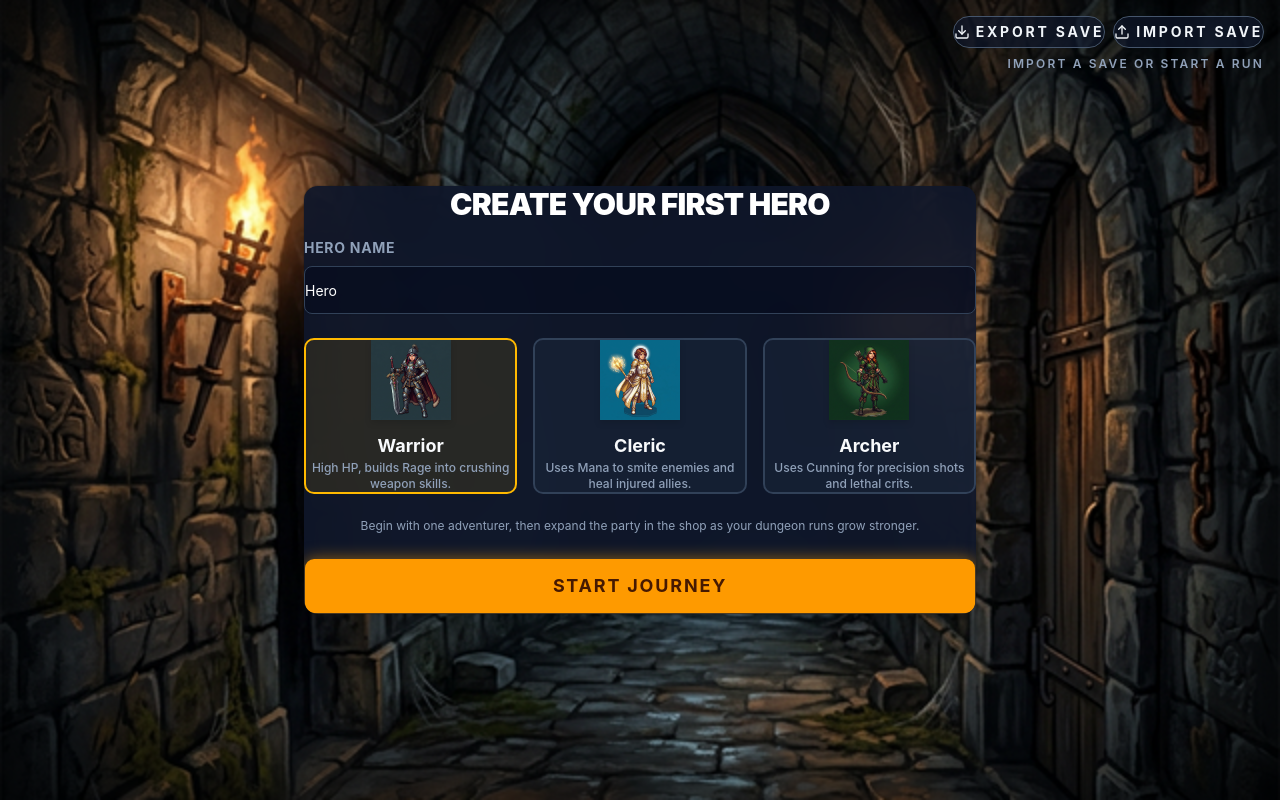
Test: App integration › creates a solo starter party and navigates to the upgrade shop
Replace the text in the field labelled "Hero Name" with "Ayla". click: (640, 290)
box: left=304, top=266, right=976, bottom=314
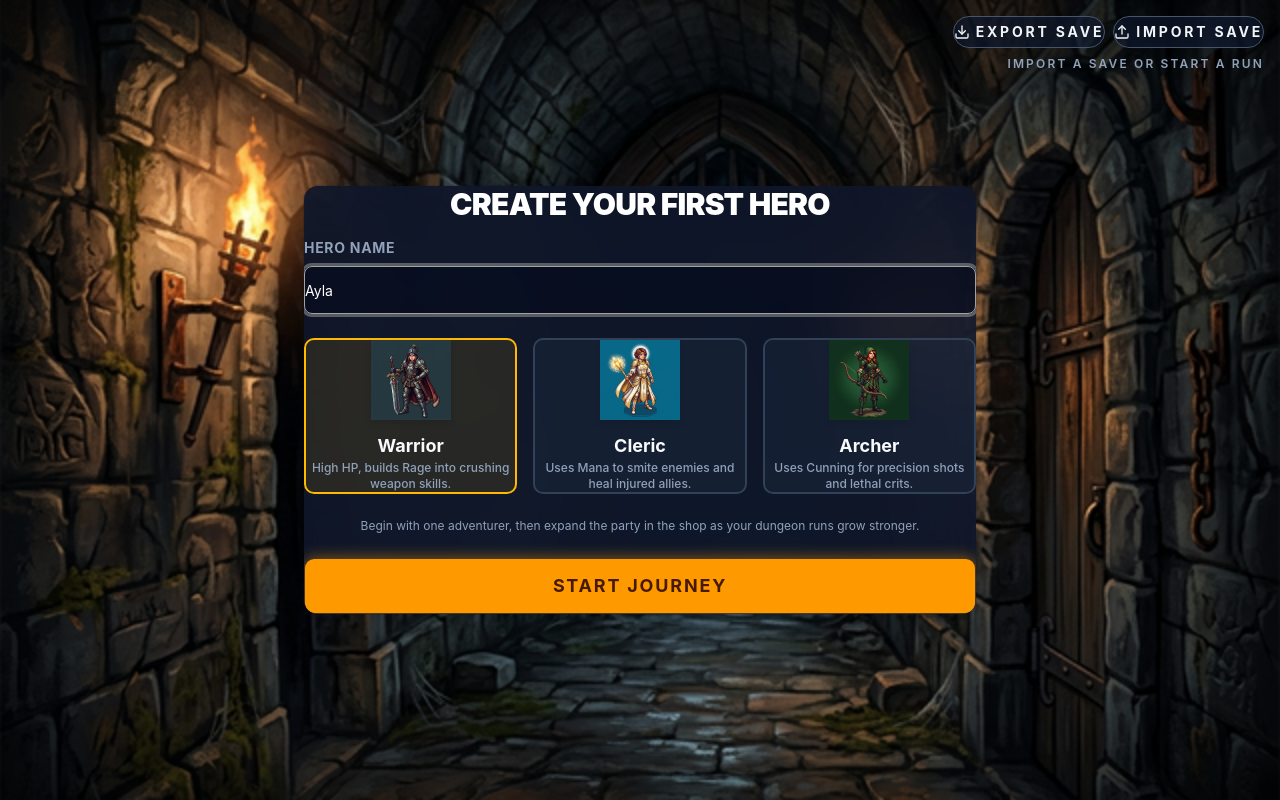
Click the button "Cleric Uses Mana to smite enemies and heal injured allies.". click: (640, 416)
box: left=533, top=338, right=747, bottom=494
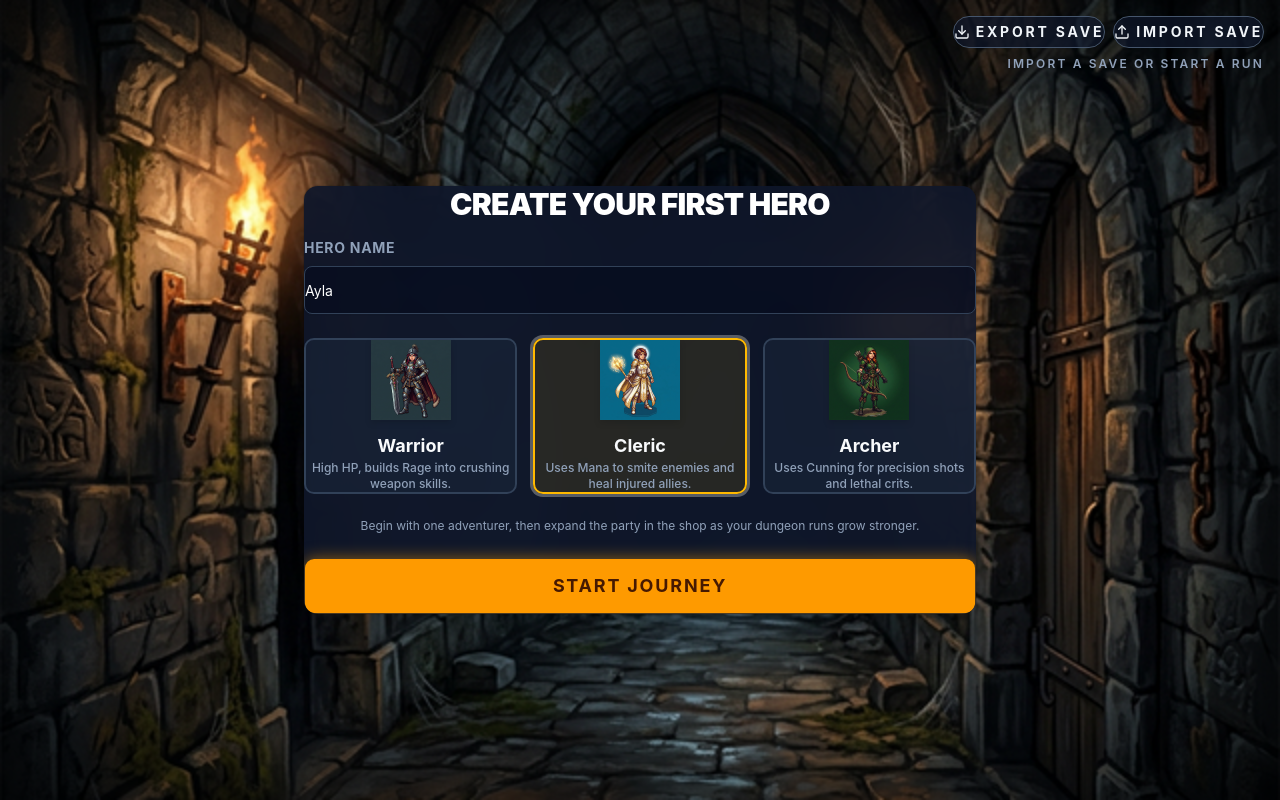
Click the button "Start Journey". click: (640, 586)
box: left=304, top=558, right=976, bottom=614
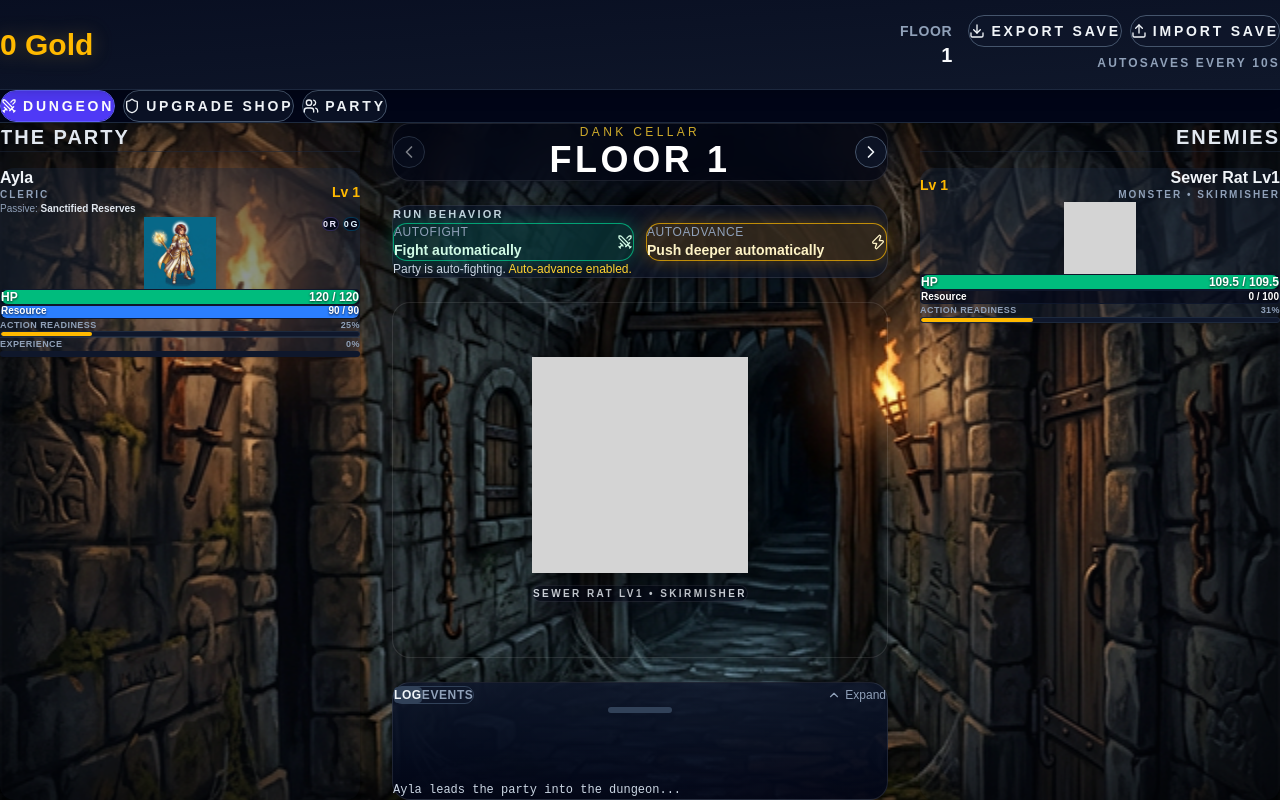
Now the heading "Ayla" is shown, box left=0, top=169, right=33, bottom=186
Now the 1st checkbox labelled "Autofight" is checked, box left=393, top=222, right=887, bottom=260
Now the 2nd checkbox labelled "Autoadvance" is checked, box left=393, top=222, right=887, bottom=260
Click the button named "next floor". click: (871, 152)
box: left=855, top=136, right=887, bottom=168
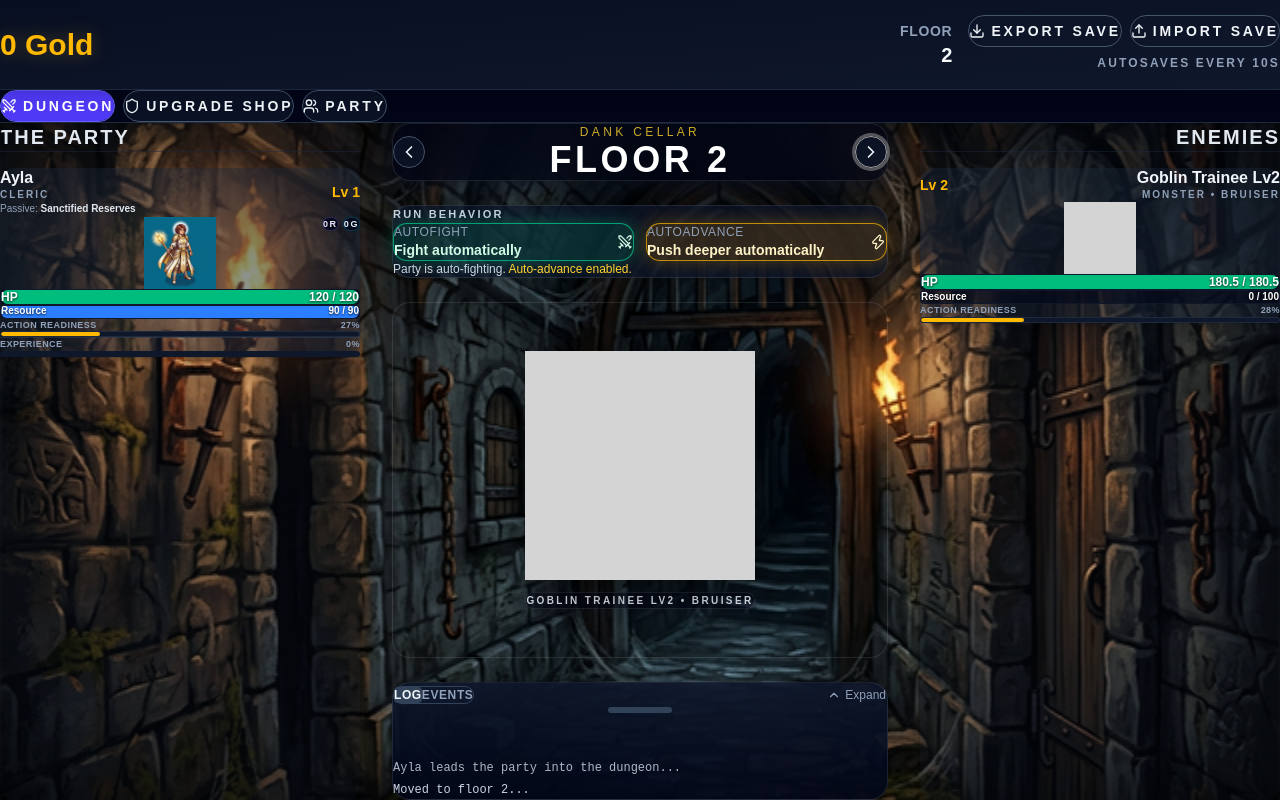
Now the button named "previous floor" is enabled, box left=393, top=136, right=425, bottom=168
Now the text "2" is shown, box left=941, top=40, right=952, bottom=68
Click the button "Upgrade Shop". click: (209, 106)
box: left=123, top=90, right=294, bottom=122
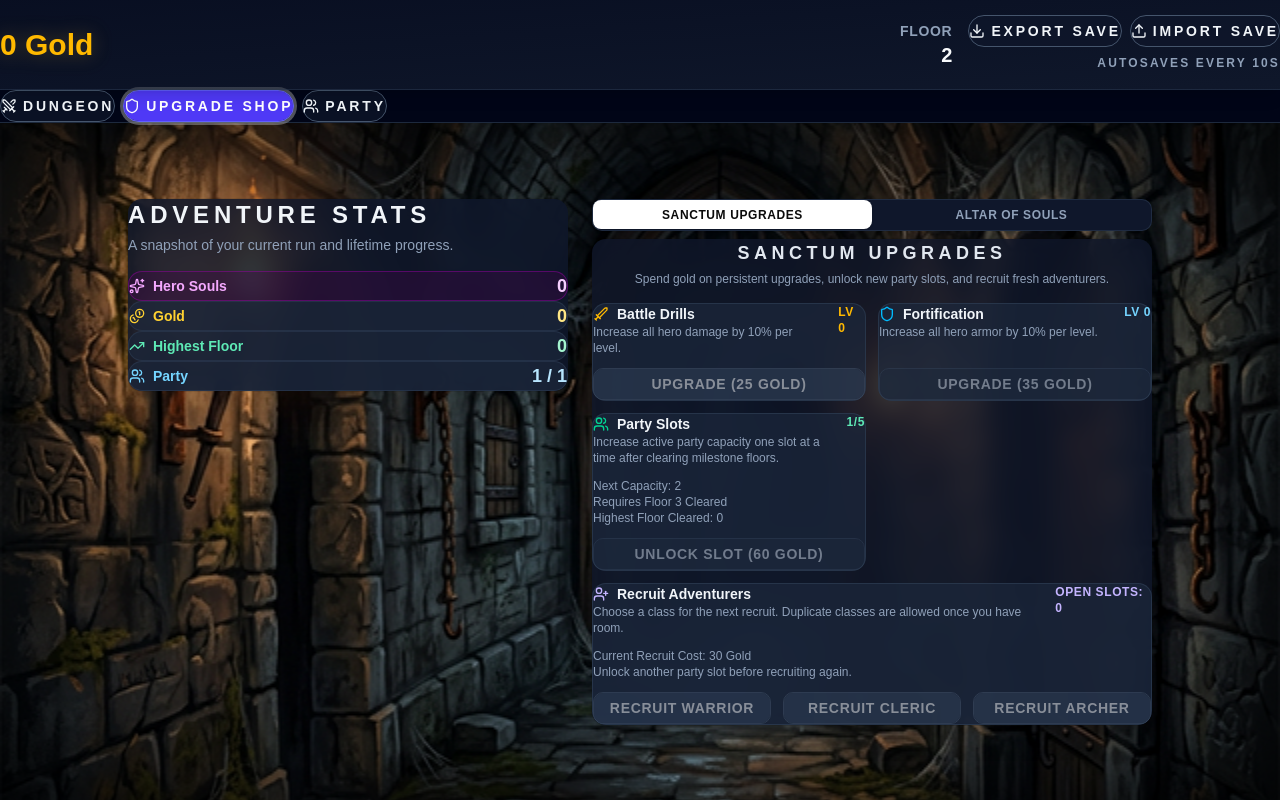
Now the tab "Sanctum Upgrades" is shown, box left=593, top=200, right=872, bottom=229
Now the text "Adventure Stats" is shown, box left=128, top=200, right=431, bottom=228
Now the button "Unlock Slot (60 Gold)" is shown, box left=593, top=538, right=865, bottom=570
